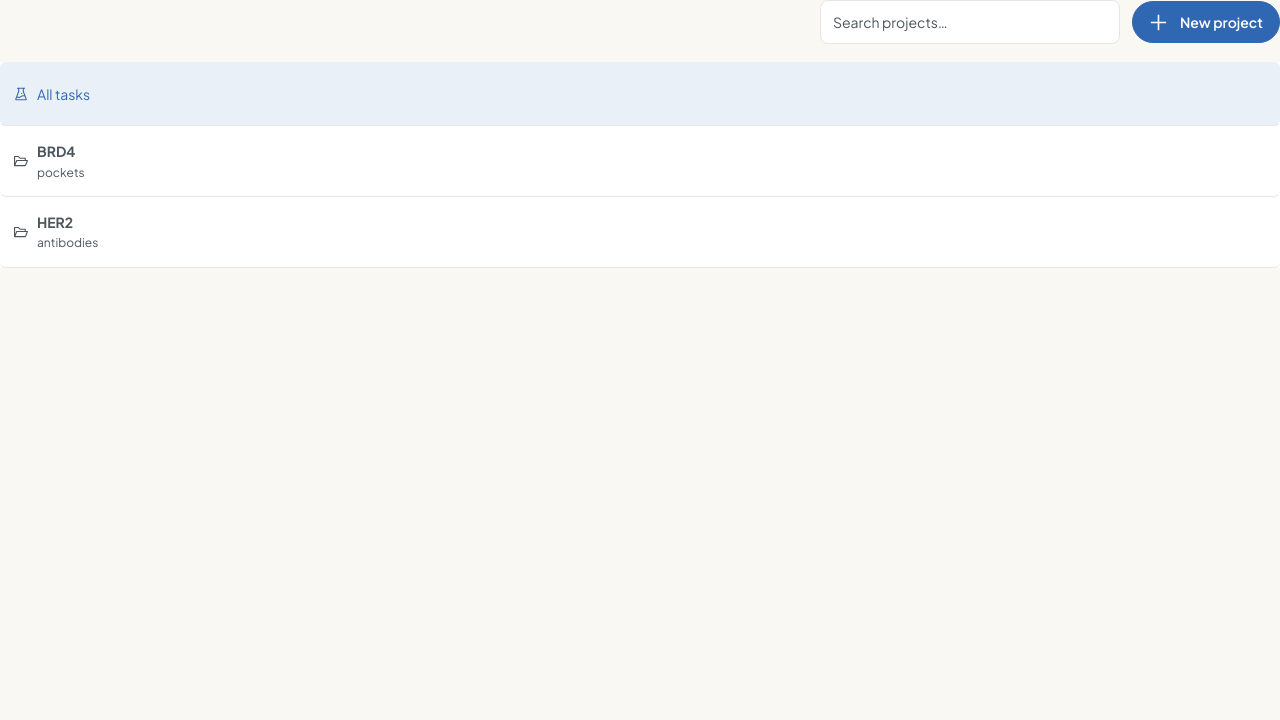
filters existing projects without mutation and dismisses an unsaved form
Type "HER2" into the search field labelled "Search projects". click: (970,22)
box: [820, 0, 1120, 44]
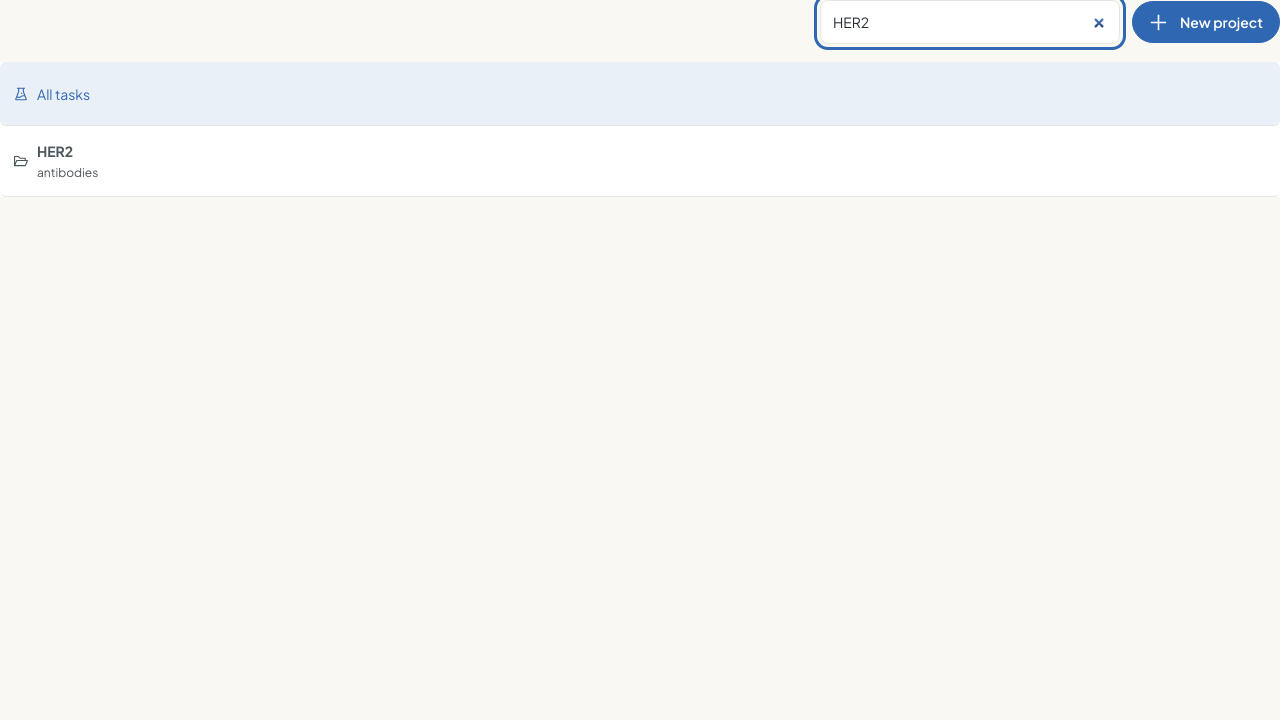
expect the button "BRD4" is gone: met
Click the button "HER2 antibodies". click: (55,151)
box: [0, 126, 1279, 197]
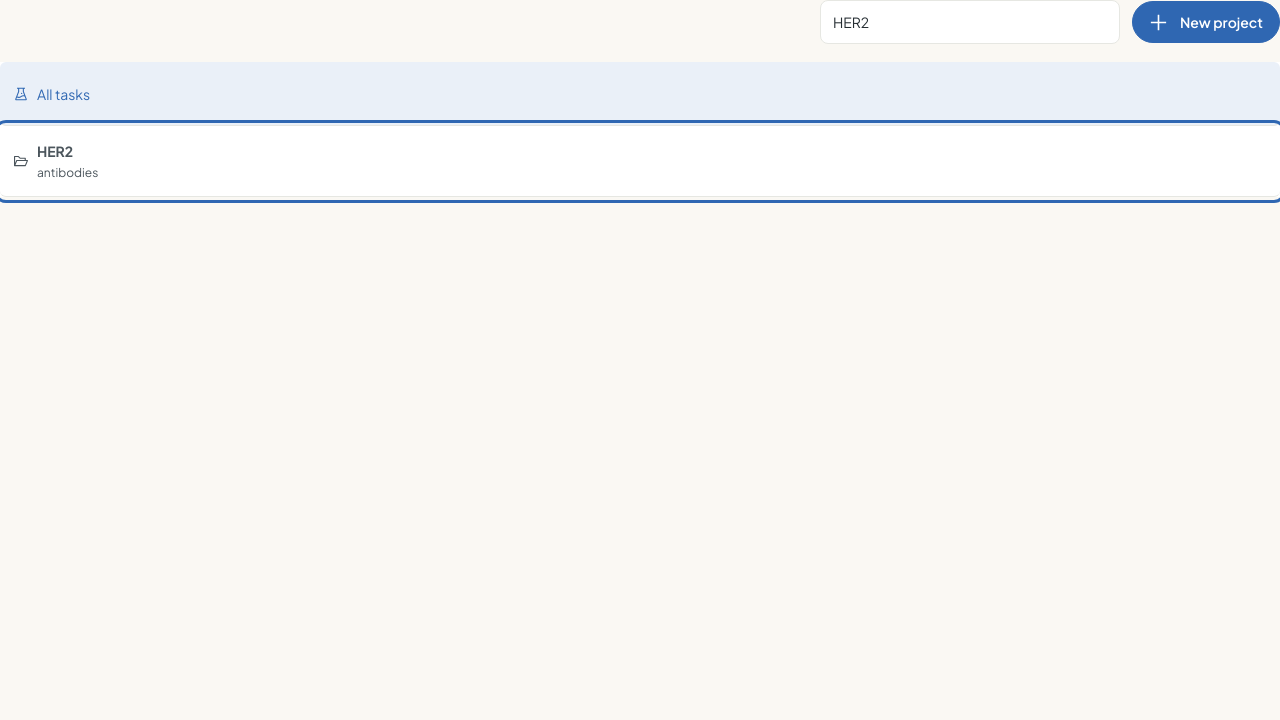
Click the button "New project". click: (1206,22)
box: [1132, 1, 1279, 43]
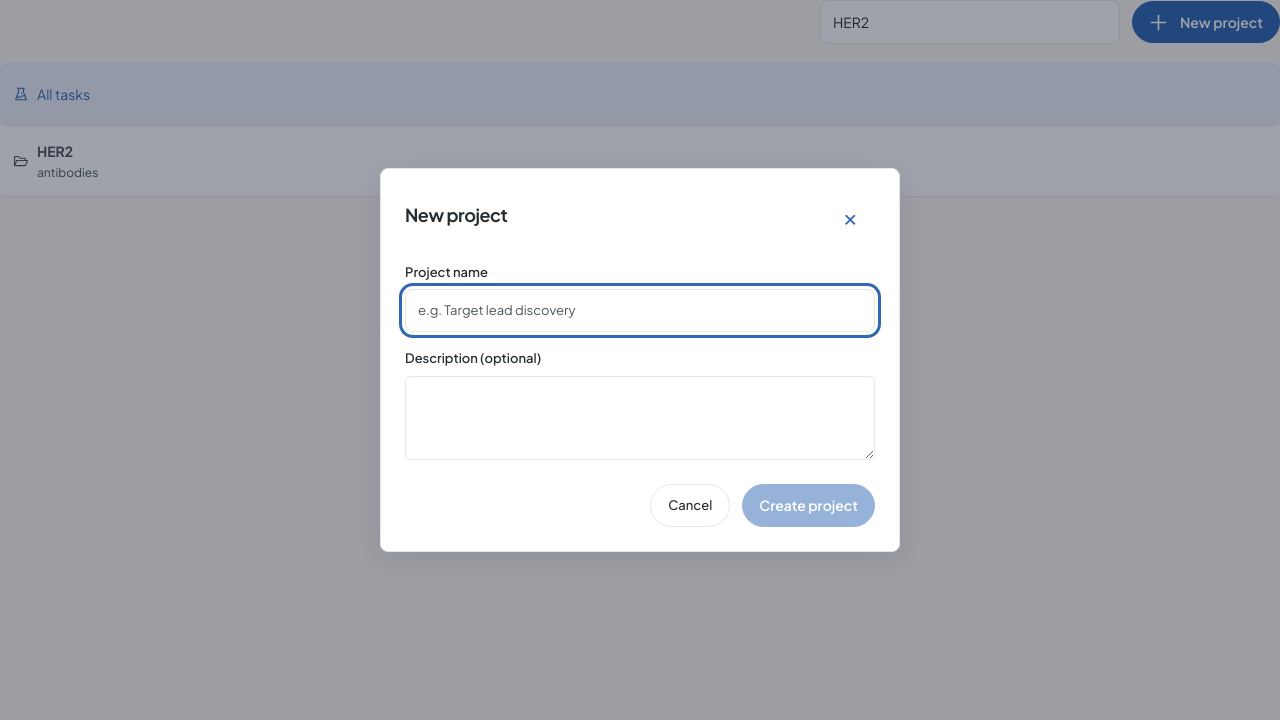
Click the button "Cancel". click: (690,506)
box: [650, 484, 730, 527]
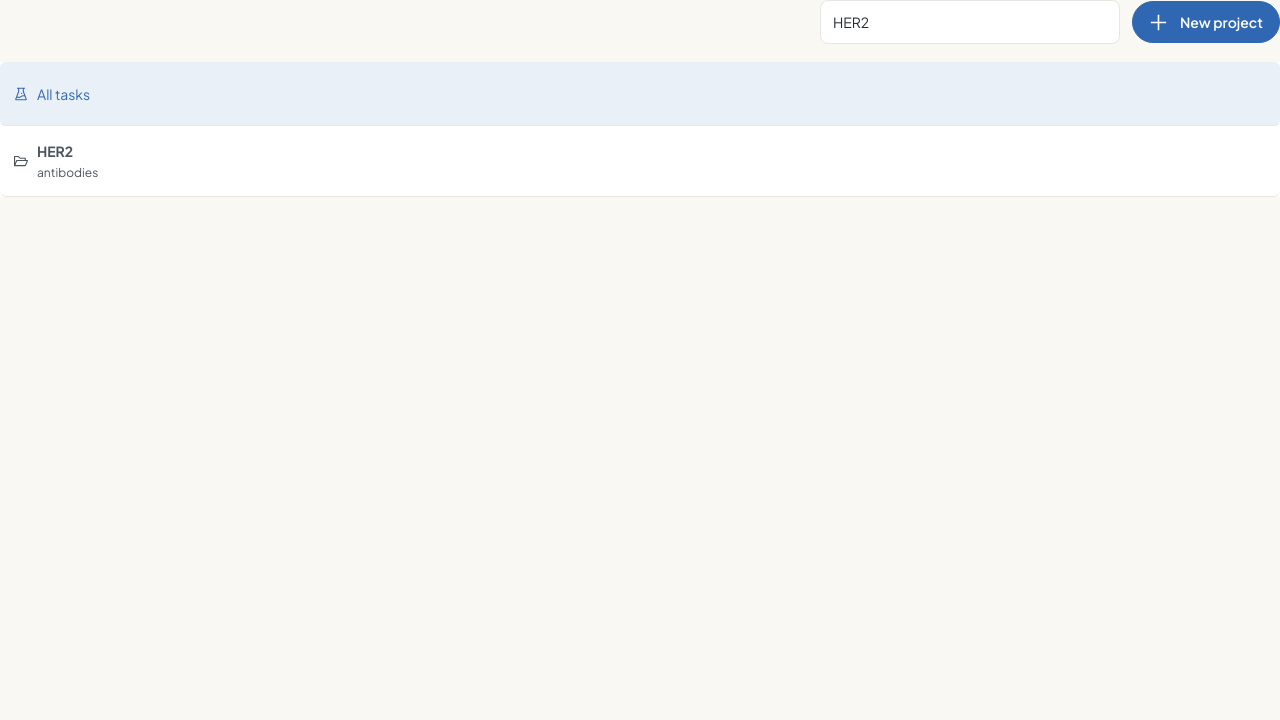
expect the dialog is gone: met
